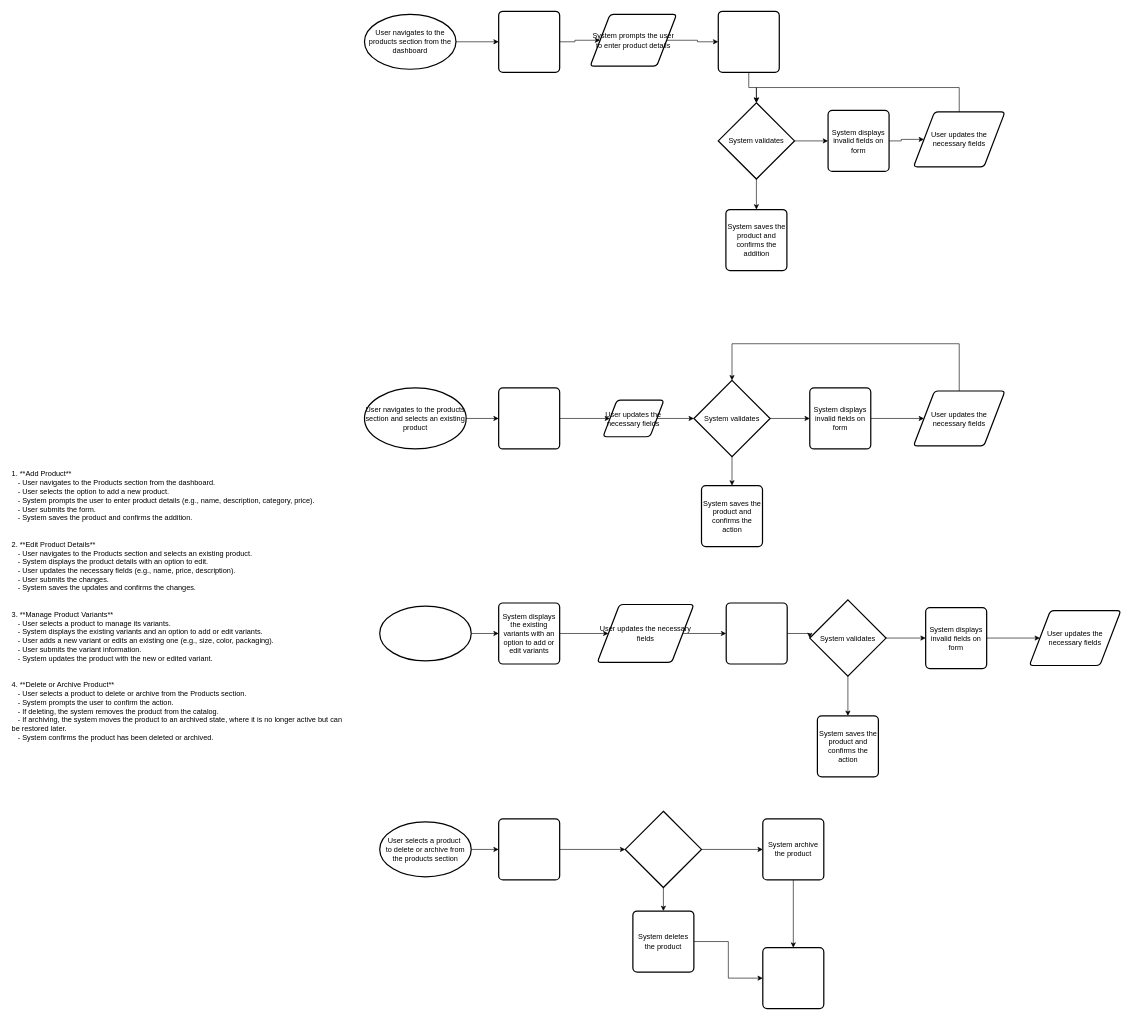
The diagram is 1132 pixels wide and 1019 high, and some of its shapes have lost their labels. The centre of each missing label's shape, as x and y in pixels:
Delete or acrhive: [663,849]
System confirms the product has been updated or deleted: [793,978]
System displays product details with an option to edit: [529,418]
System prompts the user to confirm the action: [529,849]
User selects a product to manage its variants: [425,633]
User selects the option to add a new product: [529,41]
User submits the changes: [756,633]
User submits the form: [748,41]
